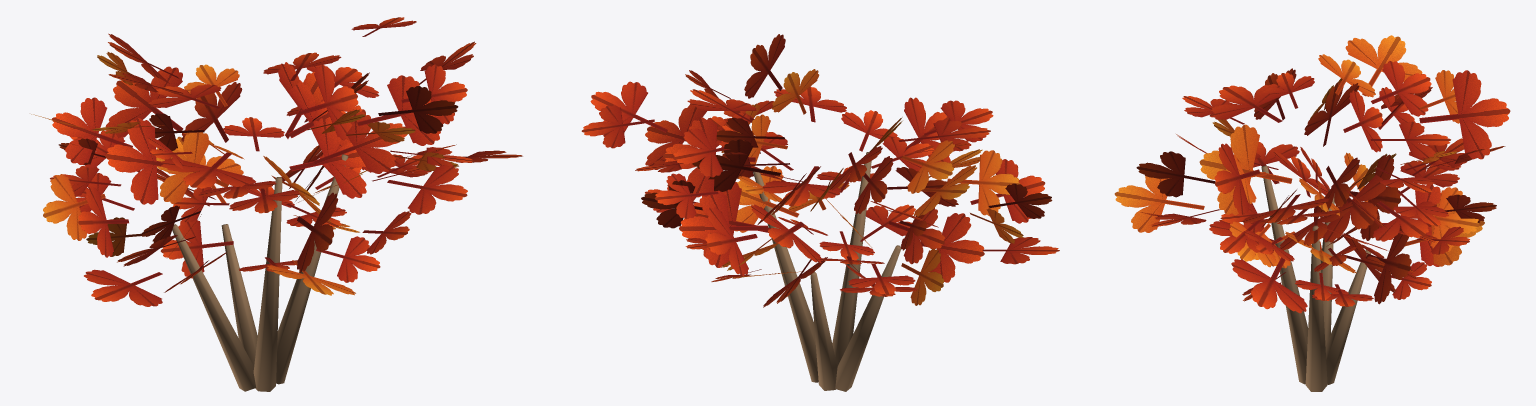
The model's file is maple_medium.glb.
The picture shows the model from 3 angles, left to right: view 1: azimuth 30°, elevation 25°; view 2: azimuth 150°, elevation 25°; view 3: azimuth 270°, elevation 25°; orthographic projection. The views are drawn at different scales.
Parts seen in each view (by area): view 1: maple_medium; view 2: maple_medium; view 3: maple_medium.
Part boxes in pixels (x1=…): maple_medium: x1=31, y1=17, x2=522, y2=391; maple_medium: x1=581, y1=34, x2=1059, y2=391; maple_medium: x1=1114, y1=35, x2=1510, y2=391.
Size of the model in its own units: 3.11 by 2.06 by 2.66.
Materials: 3 (2 with a texture image).
